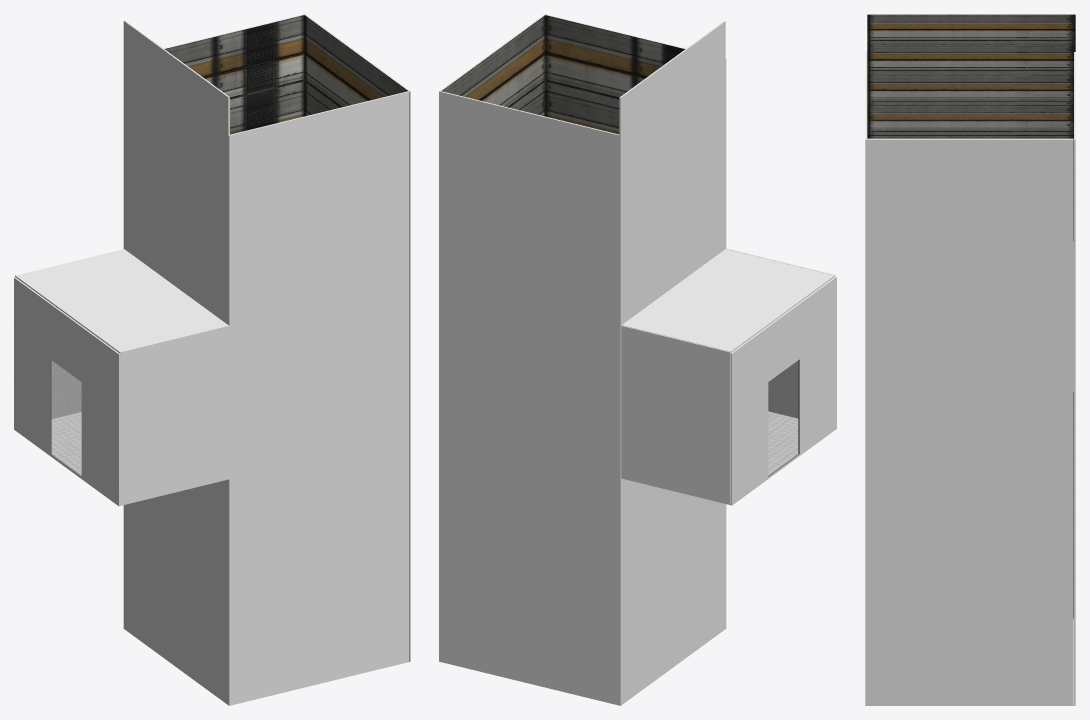
Rendered from LargeLift 2.0a.fbx.
3 views of the same model, side by side, from view 1: azimuth 30°, elevation 25°; view 2: azimuth 150°, elevation 25°; view 3: azimuth 270°, elevation 25° (orthographic).
Visible parts, largest first — view 1: node_id10, node_id19, node_id16, node_id28, node_id34, node_id22, node_id7 (×2), node_id13 (×2), node_id31, node_id25; view 2: node_id7, node_id19, node_id16, node_id25, node_id34, node_id22, node_id10 (×2), node_id13, node_id31, node_id28; view 3: node_id13, node_id19, node_id10, node_id7.
Part boxes in pixels (left/top/right/bottom): node_id10: left=228, top=91, right=410, bottom=705; node_id19: left=123, top=20, right=229, bottom=324; node_id16: left=124, top=479, right=228, bottom=704; node_id28: left=119, top=325, right=229, bottom=504; node_id34: left=14, top=277, right=120, bottom=506; node_id22: left=15, top=249, right=229, bottom=353; node_id7 (×2): left=123, top=14, right=305, bottom=628; node_id13 (×2): left=304, top=15, right=410, bottom=661; node_id31: left=51, top=412, right=81, bottom=475; node_id25: left=51, top=360, right=81, bottom=418; node_id7: left=439, top=91, right=621, bottom=705; node_id19: left=619, top=21, right=725, bottom=324; node_id16: left=621, top=479, right=725, bottom=704; node_id25: left=621, top=325, right=730, bottom=504; node_id34: left=730, top=276, right=836, bottom=505; node_id22: left=621, top=249, right=834, bottom=352; node_id10 (×2): left=544, top=14, right=726, bottom=628; node_id13: left=441, top=15, right=545, bottom=116; node_id31: left=768, top=411, right=798, bottom=475; node_id28: left=730, top=250, right=830, bottom=418; node_id13: left=865, top=138, right=1073, bottom=705; node_id19: left=867, top=14, right=1075, bottom=240; node_id10: left=865, top=51, right=867, bottom=705; node_id7: left=1074, top=52, right=1075, bottom=705.
Bounding box in the file's own units: 0.2574 × 0.512 × 0.1615.
24 materials, 13 textured.
